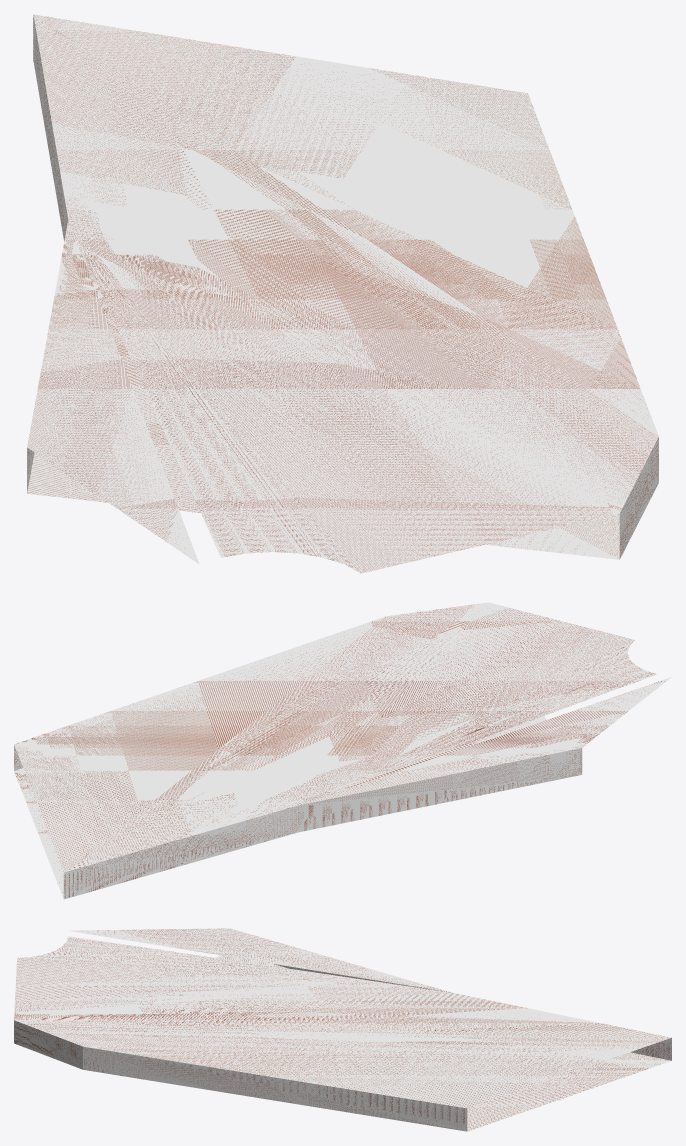
3 views of the same model, one above another, from view 1: azimuth 30°, elevation 25°; view 2: azimuth 150°, elevation 25°; view 3: azimuth 270°, elevation 25° (orthographic). The views are drawn at different scales.
Bounding box in the file's own units: 0.2173 × 0.013 × 0.3353.
